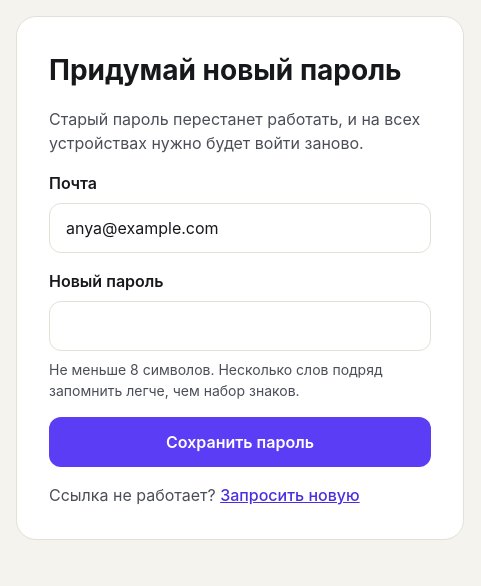
Test: ResetPasswordView › слабый пароль — ошибка под полем и связана с ним
Type "новый пароль" into the password field labelled "Новый пароль" at (240, 326), box [49,301,431,351]
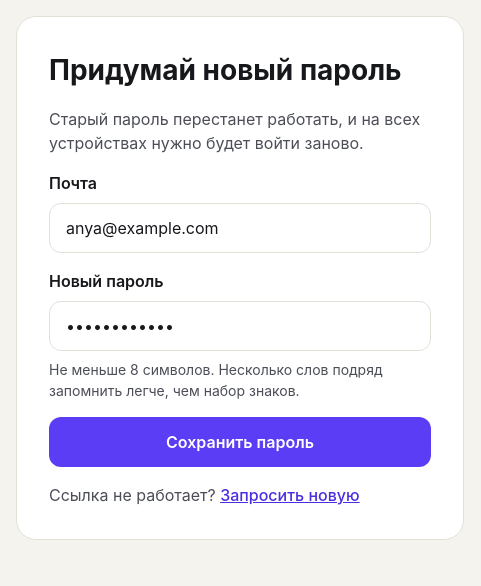
Submit the form, box [49,171,431,467]
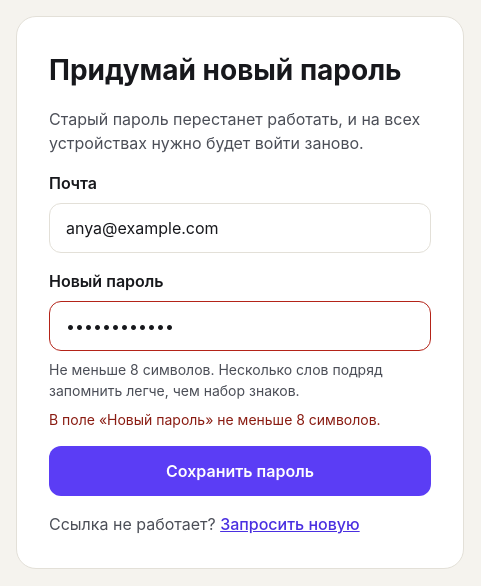
Expected: the text "В поле «Новый пароль» не меньше 8 символов." is shown, [49,409,431,430]
